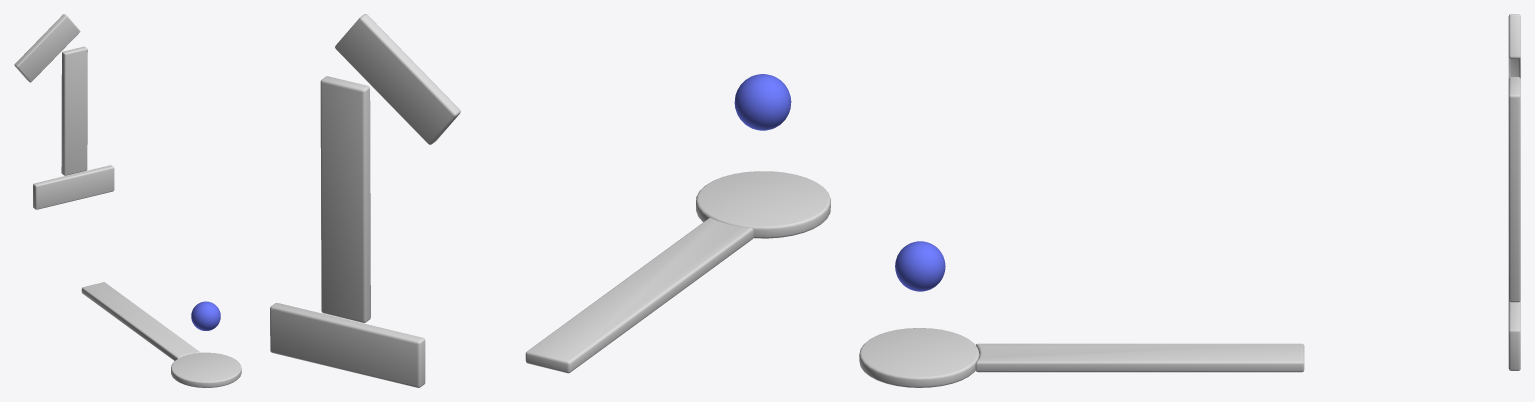
File: level1.glb
3 views of the same model, side by side, from view 1: azimuth 30°, elevation 25°; view 2: azimuth 150°, elevation 25°; view 3: azimuth 270°, elevation 25° (orthographic). The views are drawn at different scales.
Parts seen in each view (by area): view 1: Cube.001, Cube, Cube.003, Start, Cube.002, Player; view 2: Cube.001, Cube, Cube.003, Start, Cube.002, Player; view 3: Cube, Start, Cube.001, Player, Cube.003, Cube.002.
Boxes of the visible parts, bbox=[...] form: Cube.001: bbox=[61, 46, 87, 175]; Cube: bbox=[81, 282, 200, 360]; Cube.003: bbox=[33, 165, 114, 209]; Start: bbox=[171, 352, 241, 387]; Cube.002: bbox=[14, 14, 80, 82]; Player: bbox=[191, 301, 220, 330]; Cube.001: bbox=[320, 76, 370, 322]; Cube: bbox=[525, 218, 753, 373]; Cube.003: bbox=[270, 303, 425, 387]; Start: bbox=[696, 171, 830, 238]; Cube.002: bbox=[335, 14, 460, 144]; Player: bbox=[734, 74, 791, 130]; Cube: bbox=[975, 343, 1304, 372]; Start: bbox=[859, 328, 979, 387]; Cube.001: bbox=[1508, 77, 1520, 302]; Player: bbox=[895, 241, 945, 291]; Cube.003: bbox=[1508, 300, 1520, 370]; Cube.002: bbox=[1508, 14, 1520, 78].
Bounding box in the file's own units: 8.76 × 16.5 × 26.21.
